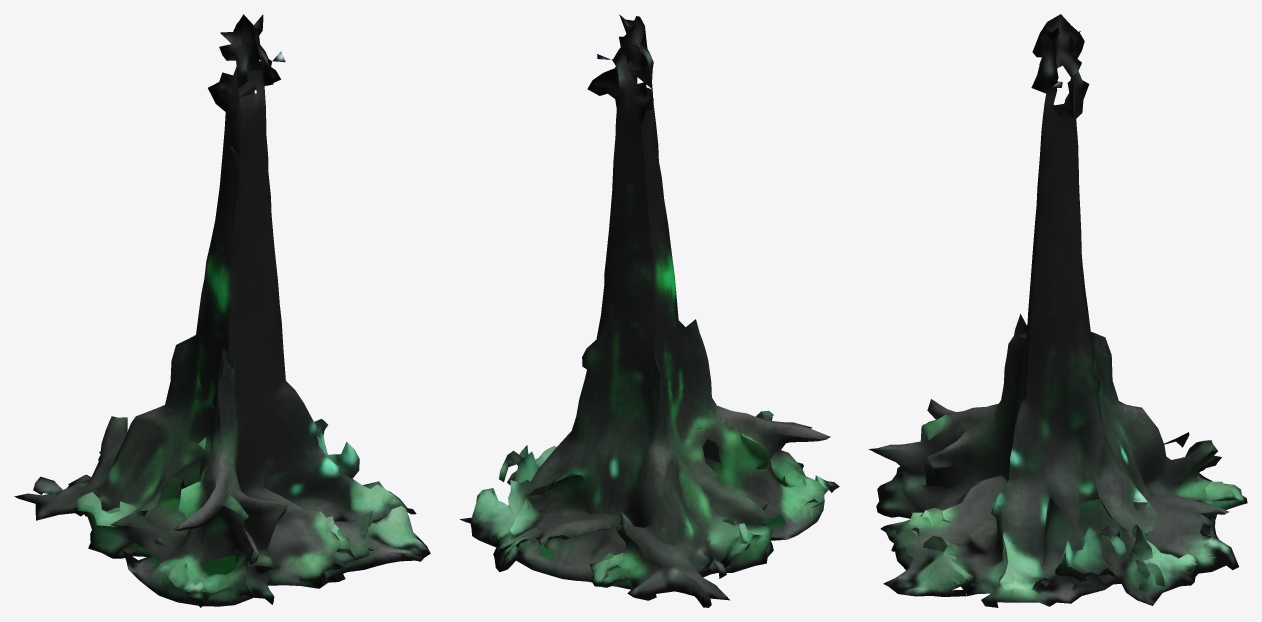
The model's file is verdant-thorn-obelisk.glb.
3 views of the same model, side by side, from view 1: azimuth 30°, elevation 25°; view 2: azimuth 150°, elevation 25°; view 3: azimuth 270°, elevation 25° (orthographic). The views are drawn at different scales.
Parts seen in each view (by area): view 1: a-single-tall-black-stone-obelisk-wrapped_optimized; view 2: a-single-tall-black-stone-obelisk-wrapped_optimized; view 3: a-single-tall-black-stone-obelisk-wrapped_optimized.
Boxes of the visible parts, x1,y1,x2,y2 form: a-single-tall-black-stone-obelisk-wrapped_optimized: [14, 14, 430, 607]; a-single-tall-black-stone-obelisk-wrapped_optimized: [460, 14, 839, 607]; a-single-tall-black-stone-obelisk-wrapped_optimized: [868, 14, 1247, 607].
Bounding box in the file's own units: 0.5841 × 0.9866 × 0.6388.
1 material, 1 textured.
